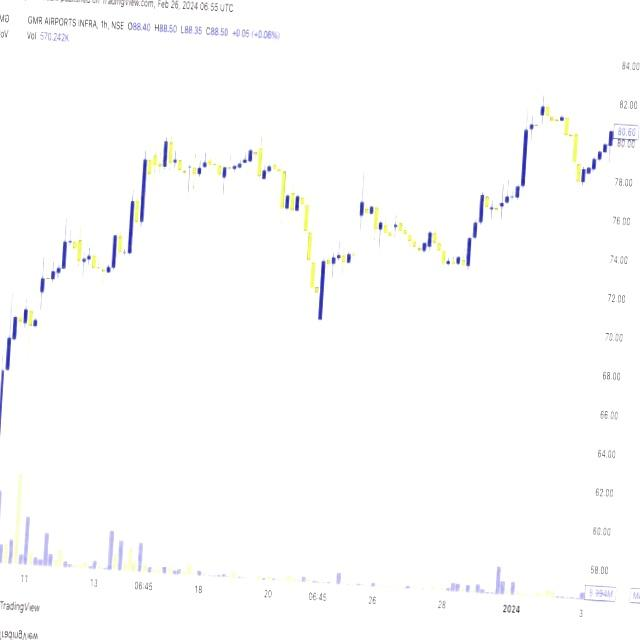Gap Up: (26, 270, 48, 334), (346, 200, 364, 266)
